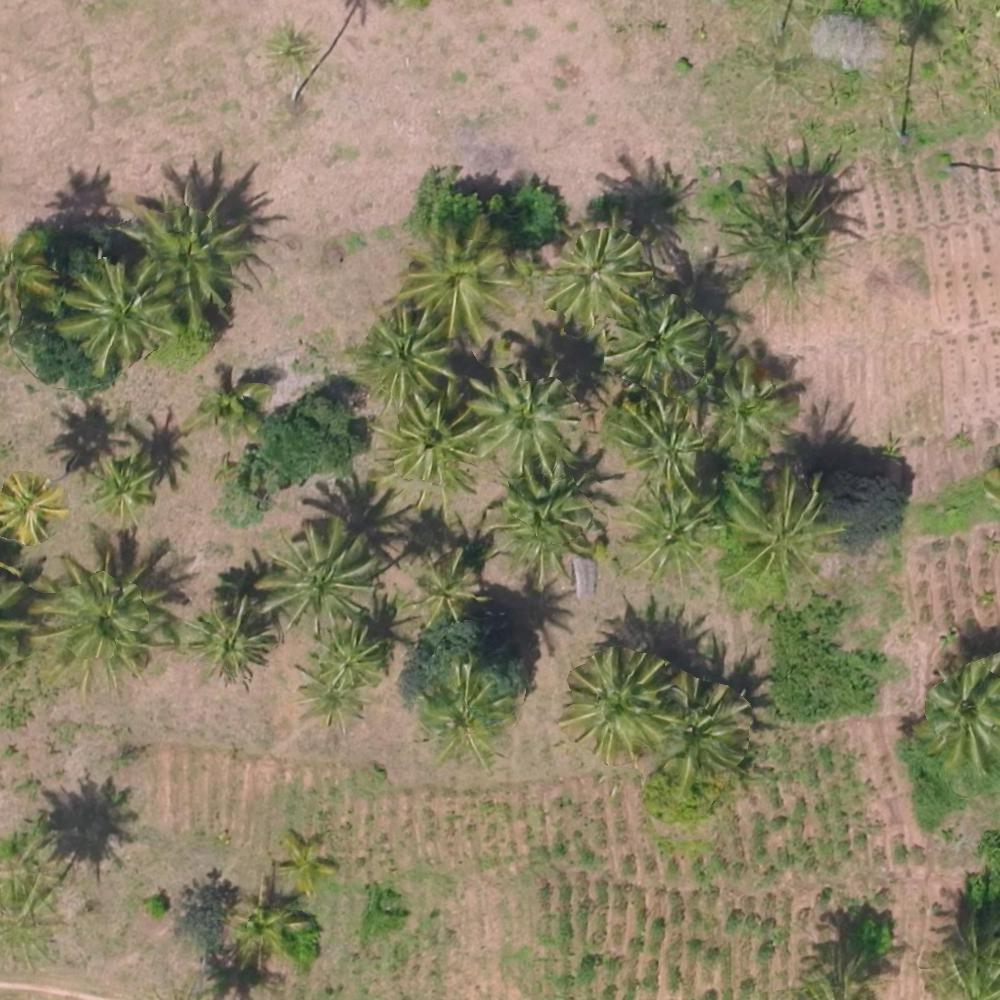Palm: (40, 557, 173, 679), (130, 186, 255, 311), (723, 185, 838, 297), (486, 474, 603, 580), (403, 223, 514, 332), (721, 478, 828, 590), (473, 365, 577, 473), (373, 394, 478, 498), (260, 527, 371, 625), (63, 265, 167, 364), (608, 300, 714, 393), (571, 654, 671, 752), (622, 486, 717, 585), (546, 230, 645, 319), (618, 398, 714, 489), (669, 675, 751, 780), (706, 360, 794, 451), (418, 677, 508, 765), (362, 313, 452, 398), (182, 604, 268, 681), (186, 371, 267, 443), (401, 556, 479, 627), (313, 621, 388, 689), (1, 473, 66, 542), (85, 455, 155, 516), (300, 665, 362, 728)
